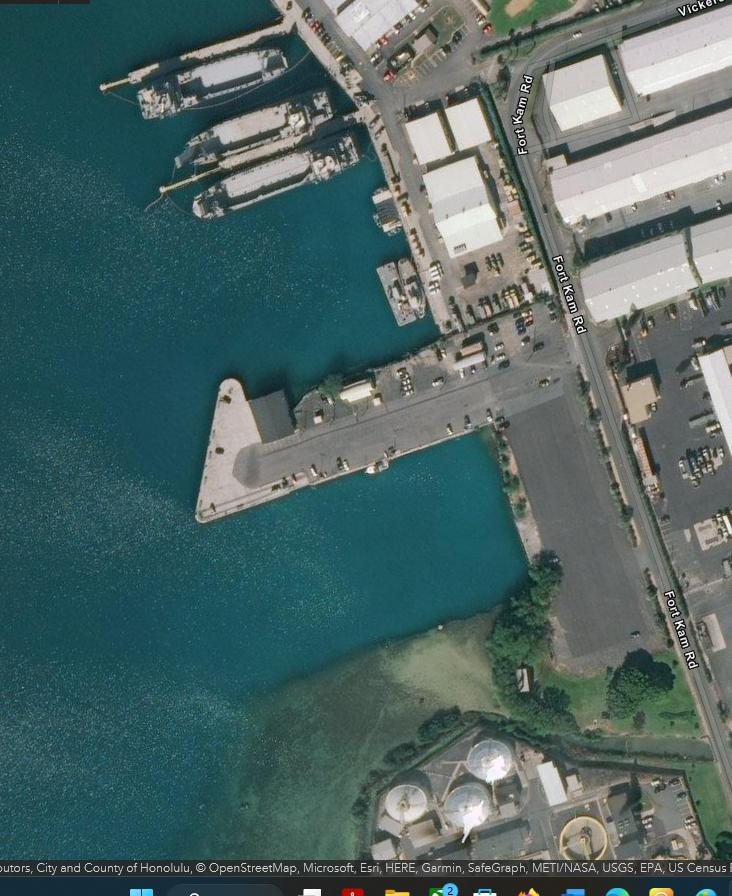barge: (189, 131, 361, 225), (168, 90, 340, 180), (134, 42, 292, 131)
